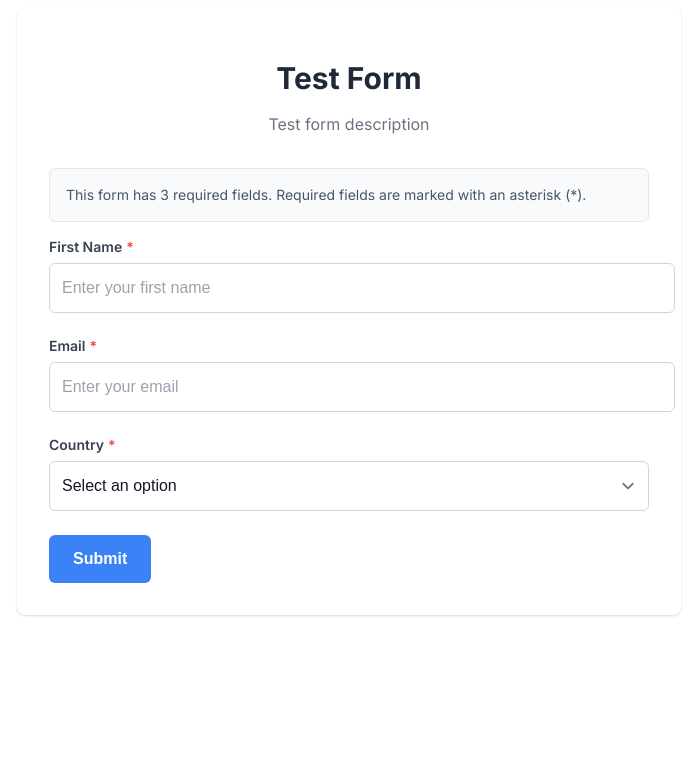
Form Component › shows error message on submission failure
The width and height of the screenshot is (699, 768).
Type "John" into the field labelled "First Name*". click: {"x": 362, "y": 288}
box: [49,263,675,313]
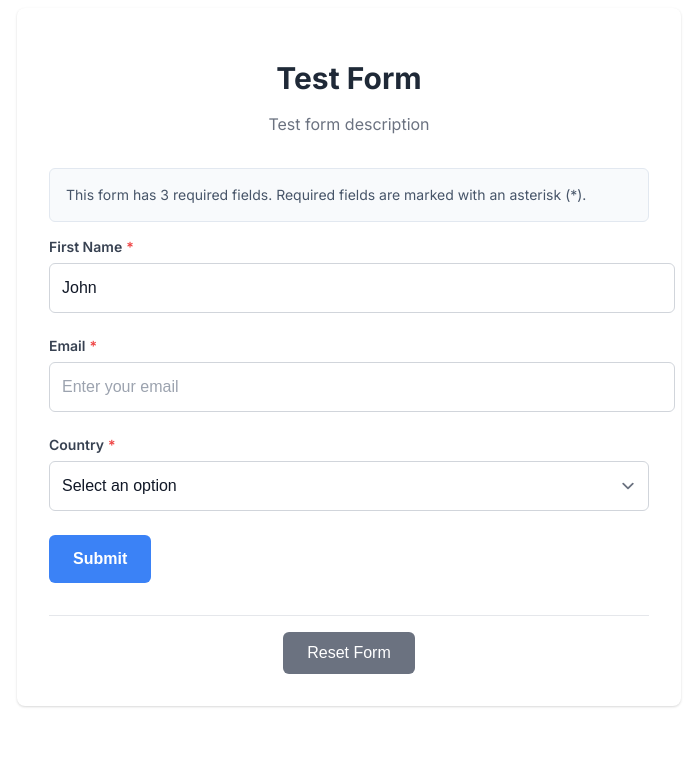
Type "john@example.com" into the field labelled "Email*". click: {"x": 362, "y": 387}
box: [49,362,675,412]
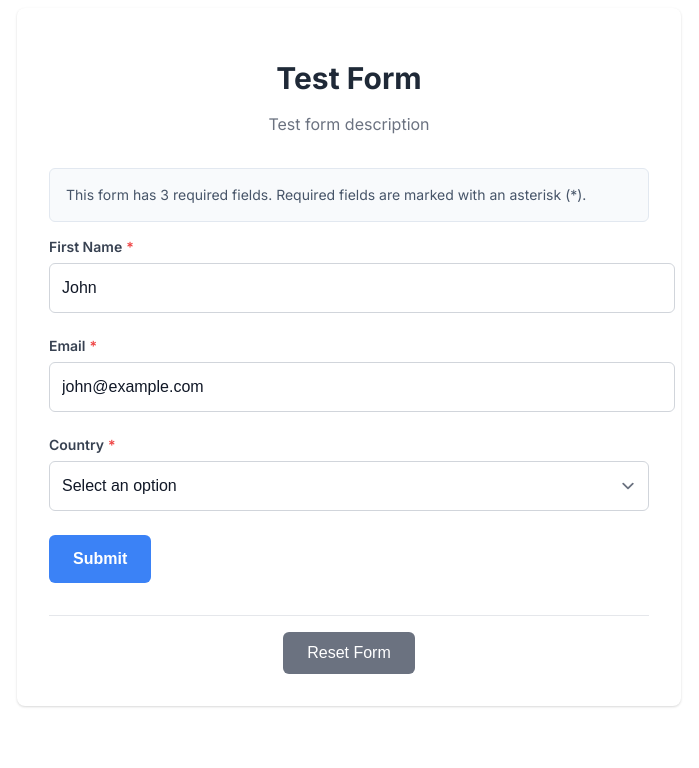
Select "United States" in the dropdown labelled "Country*". click: {"x": 349, "y": 486}
box: [49,461,649,511]
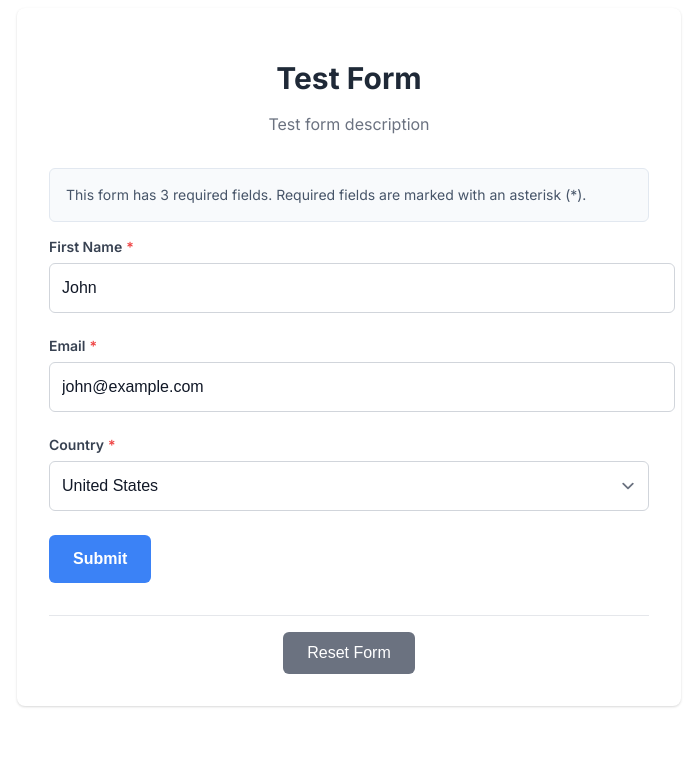
Click the button "Submit". click: {"x": 100, "y": 559}
box: [49,535,151,583]
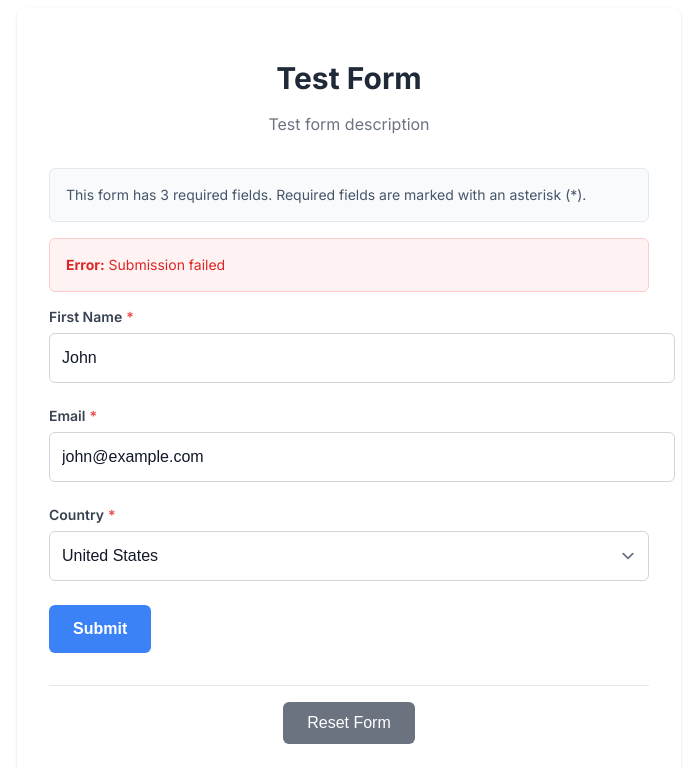
Expected: the text "Submission failed" is shown, [109,256,225,273]
